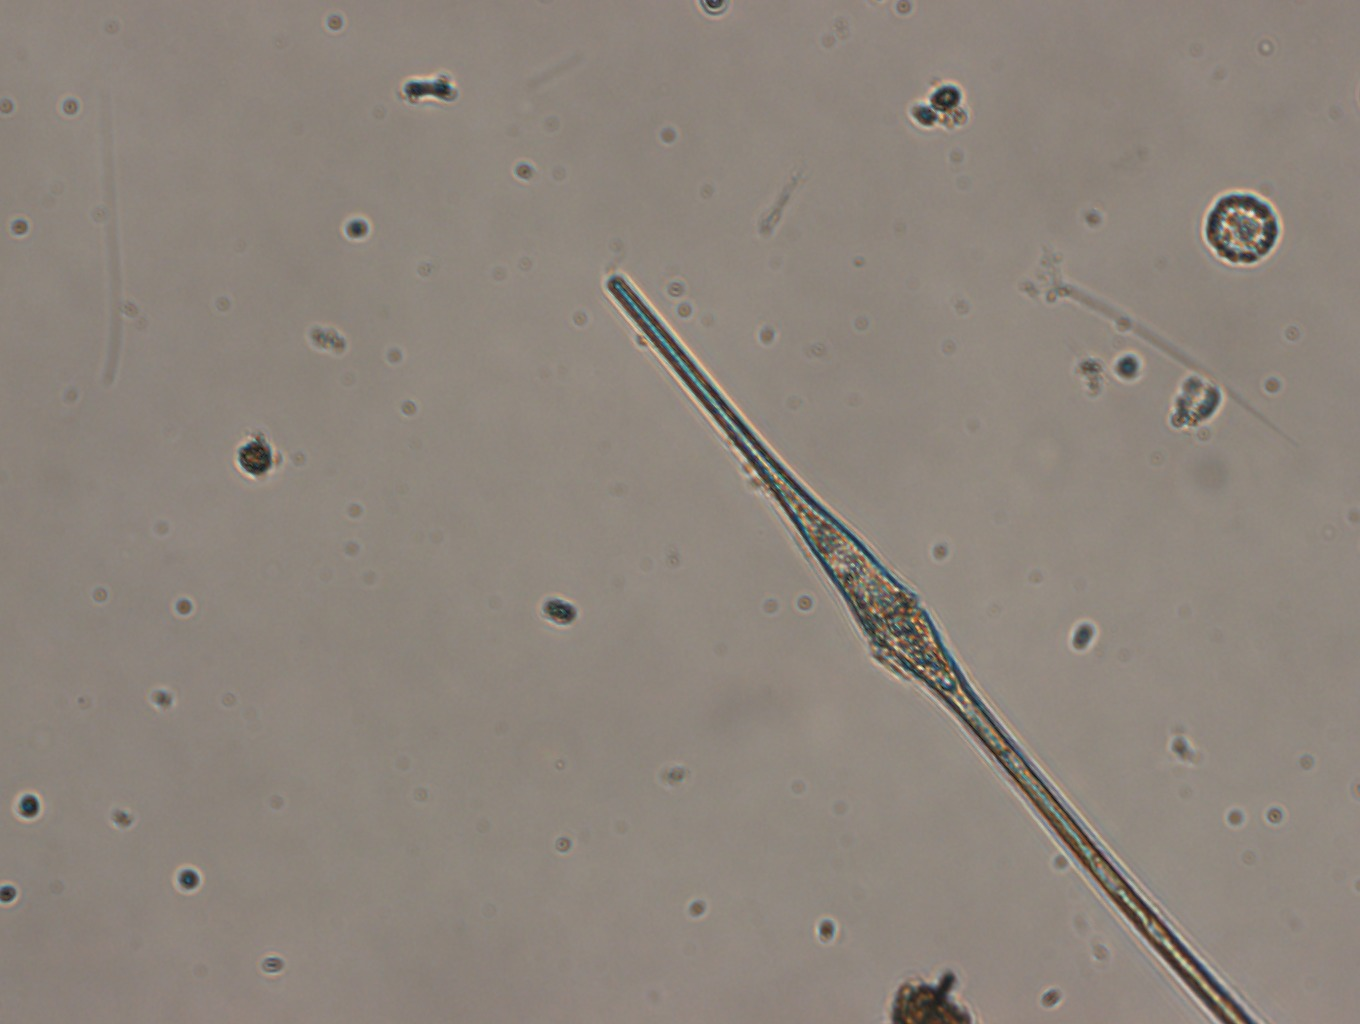ceratium fusus: (601, 269, 1259, 1024)
